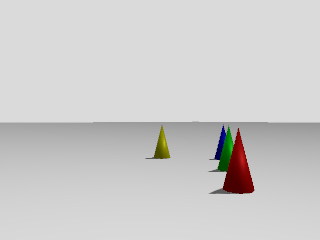blue: (214, 125, 227, 158)
green: (218, 126, 234, 172)
red: (224, 127, 256, 195)
yellow: (152, 122, 172, 159)
